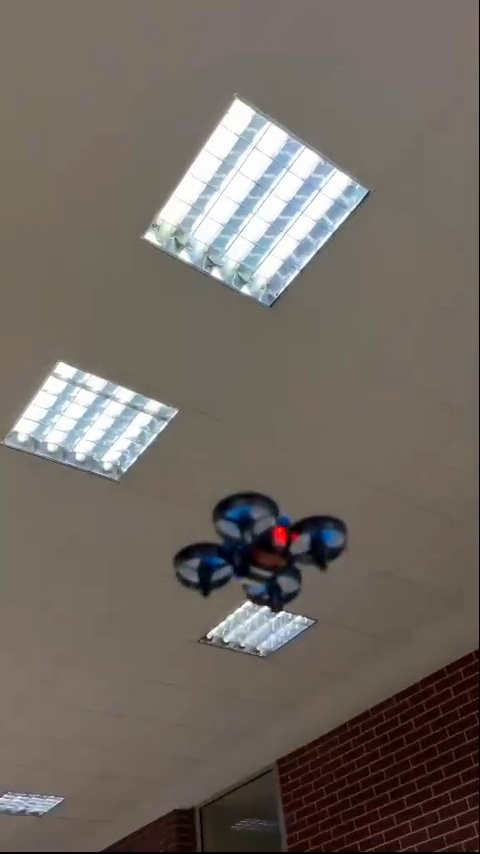drone: (175, 495, 345, 620)
